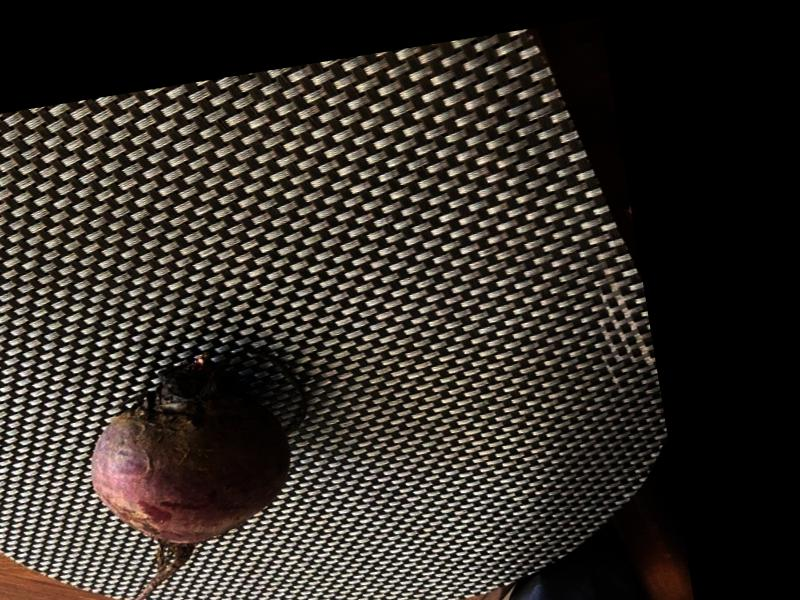Beet: (42, 338, 338, 600)
